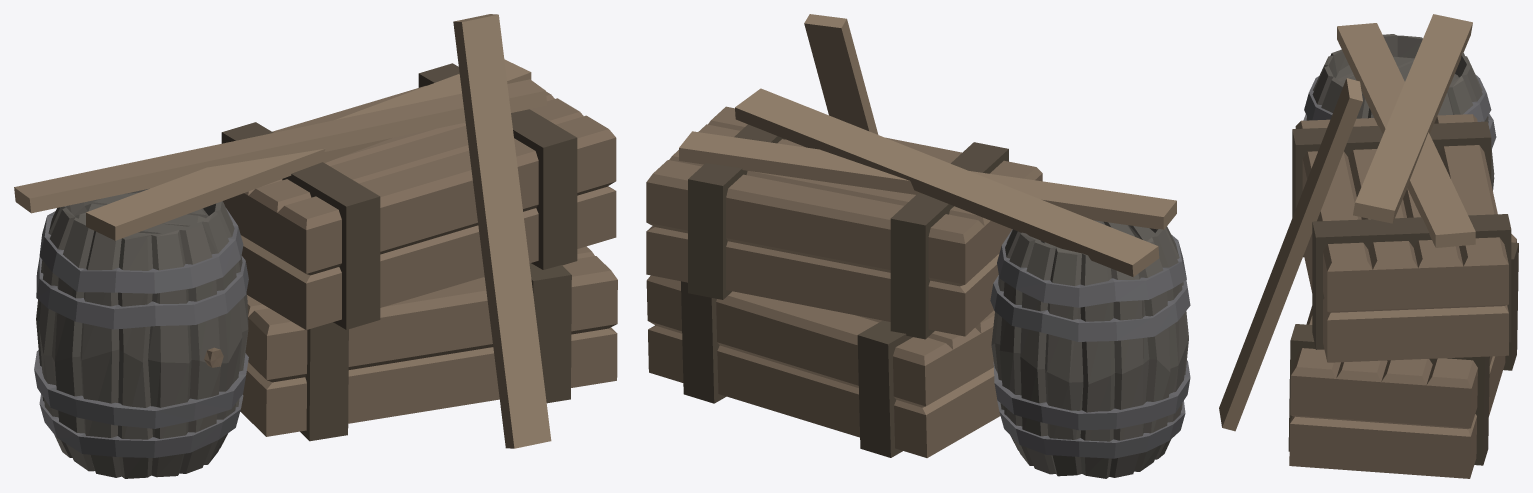
The model's file is SM_Prop_Stack_01.glb.
The picture shows the model from 3 angles, left to right: view 1: azimuth 30°, elevation 25°; view 2: azimuth 150°, elevation 25°; view 3: azimuth 270°, elevation 25°; orthographic projection. The views are drawn at different scales.
Parts seen in each view (by area): view 1: SM_Prop_Stack_01_part00; view 2: SM_Prop_Stack_01_part00; view 3: SM_Prop_Stack_01_part00.
Part boxes in pixels (box(x1,y1,x2,y2)): SM_Prop_Stack_01_part00: box(14, 14, 617, 478); SM_Prop_Stack_01_part00: box(646, 14, 1190, 478); SM_Prop_Stack_01_part00: box(1219, 14, 1518, 478).
Bounding box in the file's own units: 1.65 × 1.12 × 0.8797.
1 material, 1 textured.
